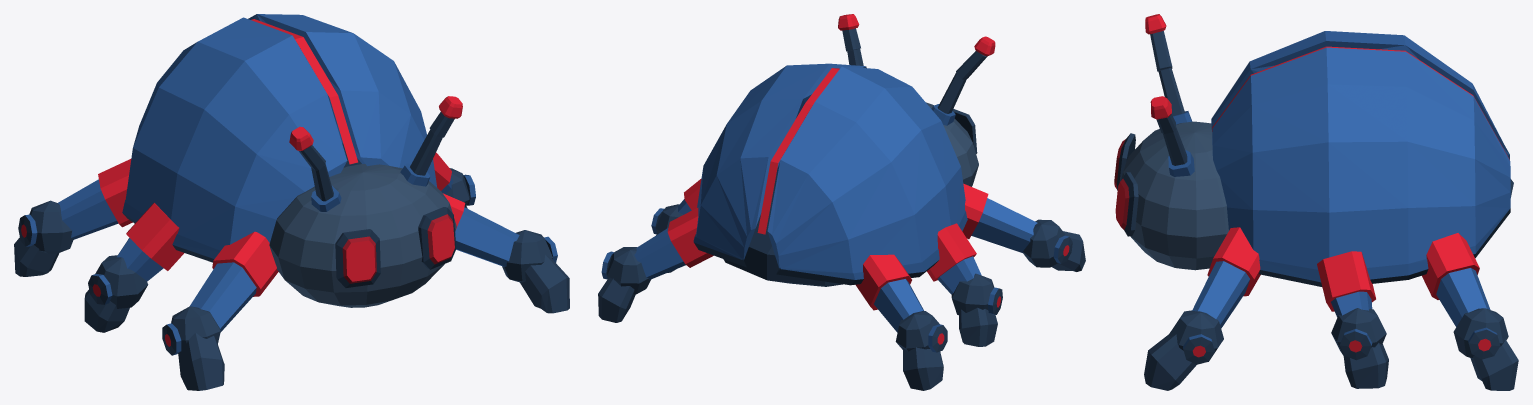
The model's file is problem_bug_v01_bambu_100mm_move_0.350s.glb.
The picture shows the model from 3 angles, left to right: view 1: azimuth 30°, elevation 25°; view 2: azimuth 150°, elevation 25°; view 3: azimuth 270°, elevation 25°; orthographic projection. The views are drawn at different scales.
Parts seen in each view (by area): view 1: bug_body; view 2: bug_body; view 3: bug_body.
Part boxes in pixels (x1,y1,x2,y2): bug_body: (14,14,569,390); bug_body: (598,14,1085,390); bug_body: (1114,14,1518,390).
Size of the model in its own units: 0.1543 by 0.1 by 0.1397.
Materials: 1 (1 with a texture image).
